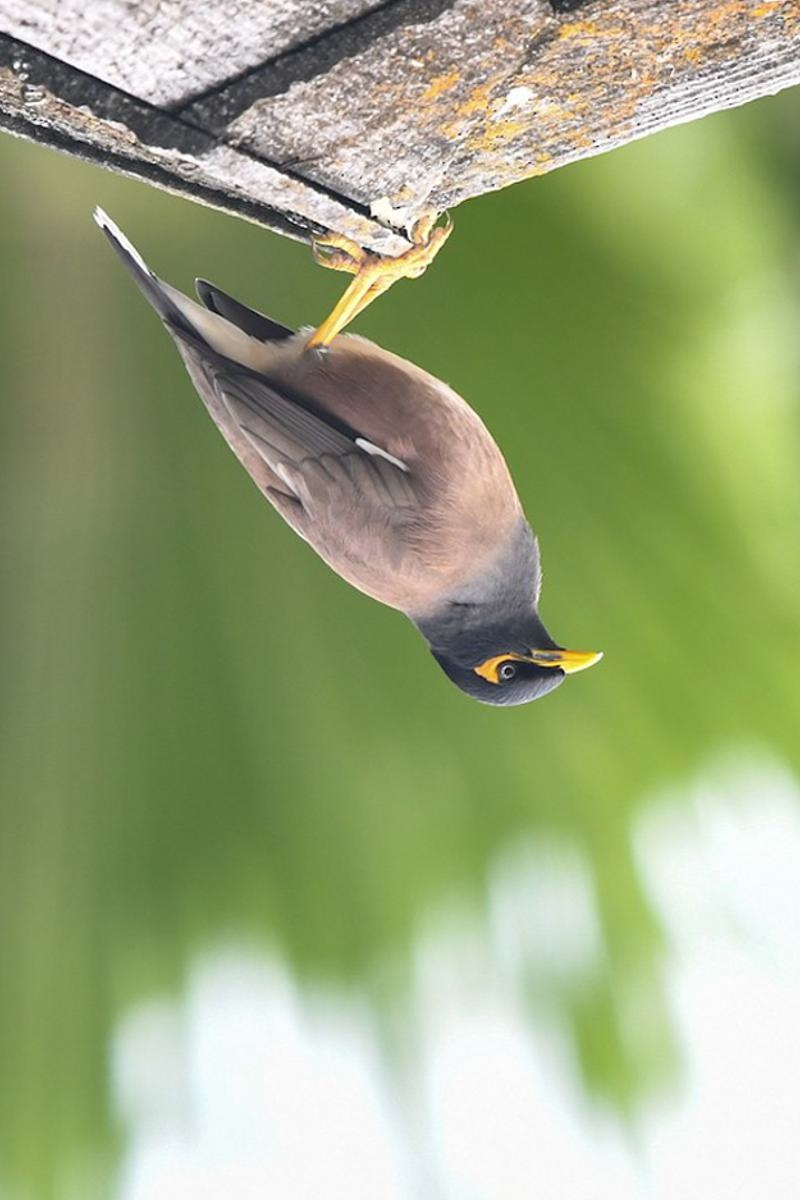myna: (97, 118, 614, 738)
